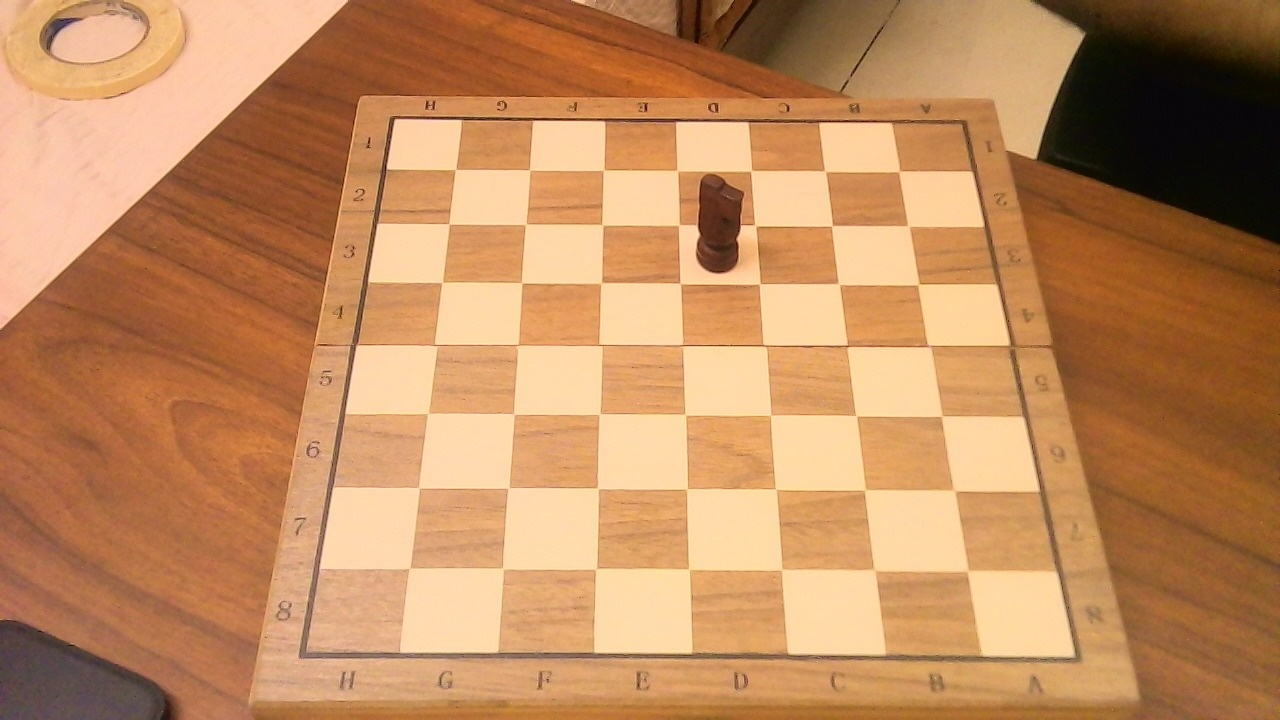n: (684, 158, 757, 278)
